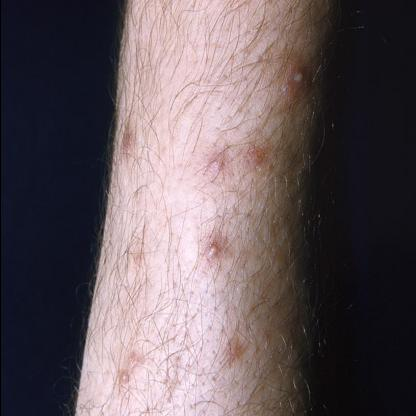Fire ant: (276, 66, 308, 98), (244, 140, 270, 170), (220, 336, 244, 368), (113, 366, 138, 390), (202, 235, 220, 264), (116, 130, 132, 158), (206, 155, 226, 175), (130, 246, 144, 270)
